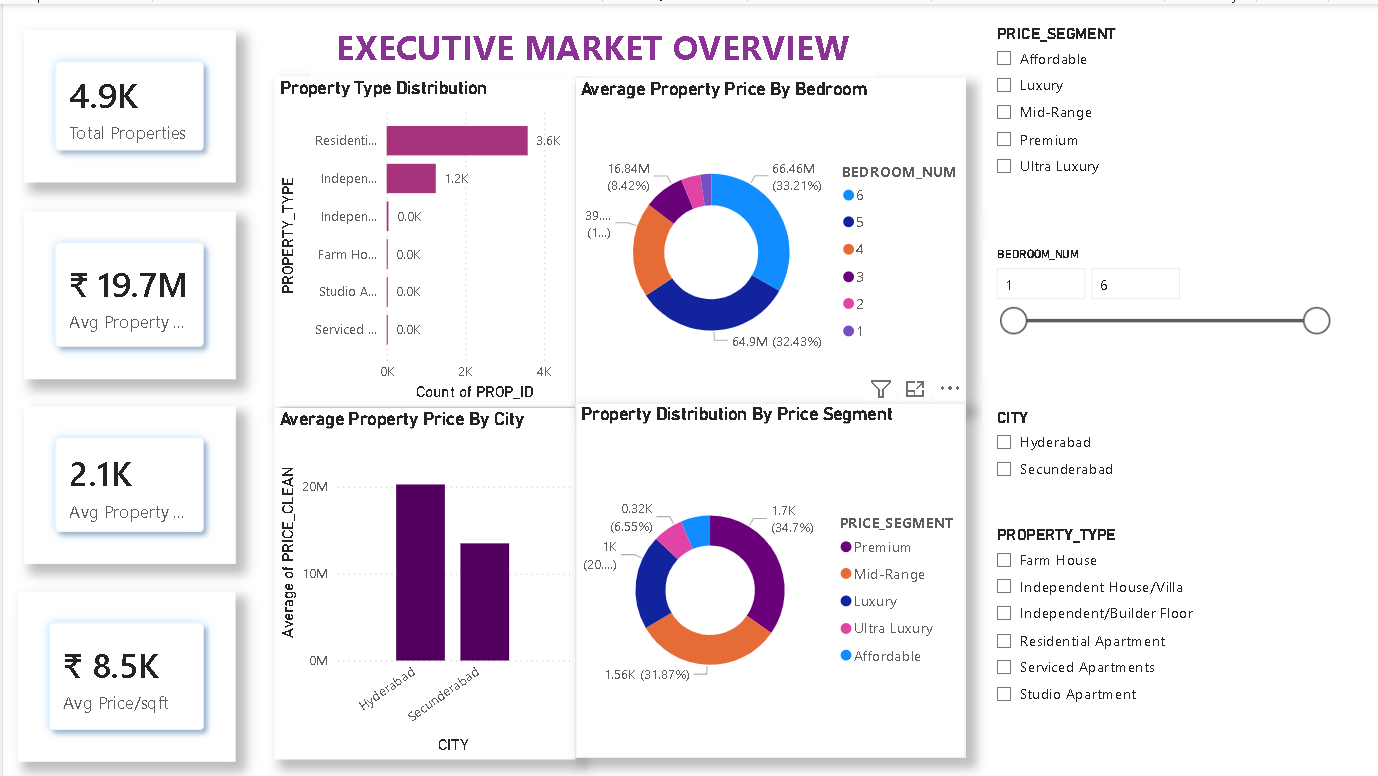

The dashboard page shown, as its layout file describes it:
{"tool":"powerbi","page":{"name":"Page 1","canvas":[1280,720],"ordinal":0},"visuals":[{"type":"cardVisual","fields":{"Data":["CountNonNull(final_realty_mysql_ready.PROP_ID)"]},"box":[19.8,24.9,196.5,141.9],"z":0},{"type":"cardVisual","fields":{"Data":["Avg(final_realty_mysql_ready.PRICE_CLEAN)"]},"box":[19.8,192.7,196.5,155.8],"z":1000},{"type":"cardVisual","fields":{"Data":["Avg(final_realty_mysql_ready.AREA_CLEAN)"]},"box":[19.8,374.5,196.5,146.5],"z":2000},{"type":"cardVisual","fields":{"Data":["Avg(final_realty_mysql_ready.PRICE_PER_SQFT_ENGINEERED)"]},"box":[14,547,202.3,158.1],"z":3000},{"type":"clusteredBarChart","title":"Property Type Distribution","fields":{"Category":["final_realty_mysql_ready.PROPERTY_TYPE"],"Y":["CountNonNull(final_realty_mysql_ready.PROP_ID)"]},"box":[252.3,67.4,280.2,307],"z":4000},{"type":"columnChart","title":"Average Property Price By City","fields":{"Category":["final_realty_mysql_ready.CITY"],"Y":["Avg(final_realty_mysql_ready.PRICE_CLEAN)"]},"box":[252.9,375.7,280,327.1],"z":5000},{"type":"donutChart","title":"Average Property Price By Bedroom","fields":{"Category":["final_realty_mysql_ready.BEDROOM_NUM"],"Y":["Avg(final_realty_mysql_ready.PRICE_CLEAN)"]},"box":[532.9,68.6,362.9,305.7],"z":6000},{"type":"slicer","fields":{"Values":["final_realty_mysql_ready.CITY"]},"box":[911.4,371.4,331.4,95.7],"z":7000},{"type":"slicer","fields":{"Values":["final_realty_mysql_ready.PROPERTY_TYPE"]},"box":[911.4,480,358.6,207.1],"z":8000},{"type":"slicer","fields":{"Values":["final_realty_mysql_ready.PRICE_SEGMENT"]},"box":[911.4,14.3,331.4,178.6],"z":9000},{"type":"slicer","fields":{"Values":["final_realty_mysql_ready.BEDROOM_NUM"]},"box":[911.4,221.4,331.4,127.1],"z":10000},{"type":"textbox","box":[286,12.8,525.6,54.7],"z":11000},{"type":"donutChart","title":"Property Distribution By Price Segment","fields":{"Category":["final_realty_mysql_ready.PRICE_SEGMENT"],"Y":["CountNonNull(final_realty_mysql_ready.CITY)"]},"box":[532.9,371.4,362.9,330],"z":12000}]}

Visuals, with their boxes in screenshot pixels (x1, y1, x2, y2), scaled from the page's 1280x720 canvas onto the 1378x776 screenshot:
cardVisual - CountNonNull(final_realty_mysql_ready.PROP_ID): <region>21, 27, 233, 180</region>
cardVisual - Avg(final_realty_mysql_ready.PRICE_CLEAN): <region>21, 208, 233, 376</region>
cardVisual - Avg(final_realty_mysql_ready.AREA_CLEAN): <region>21, 404, 233, 562</region>
cardVisual - Avg(final_realty_mysql_ready.PRICE_PER_SQFT_ENGINEERED): <region>15, 590, 233, 760</region>
"Property Type Distribution" clusteredBarChart: <region>272, 73, 573, 404</region>
"Average Property Price By City" columnChart: <region>272, 405, 574, 757</region>
"Average Property Price By Bedroom" donutChart: <region>574, 74, 964, 403</region>
slicer - final_realty_mysql_ready.CITY: <region>981, 400, 1338, 503</region>
slicer - final_realty_mysql_ready.PROPERTY_TYPE: <region>981, 517, 1367, 741</region>
slicer - final_realty_mysql_ready.PRICE_SEGMENT: <region>981, 15, 1338, 208</region>
slicer - final_realty_mysql_ready.BEDROOM_NUM: <region>981, 239, 1338, 376</region>
textbox: <region>308, 14, 874, 73</region>
"Property Distribution By Price Segment" donutChart: <region>574, 400, 964, 756</region>
